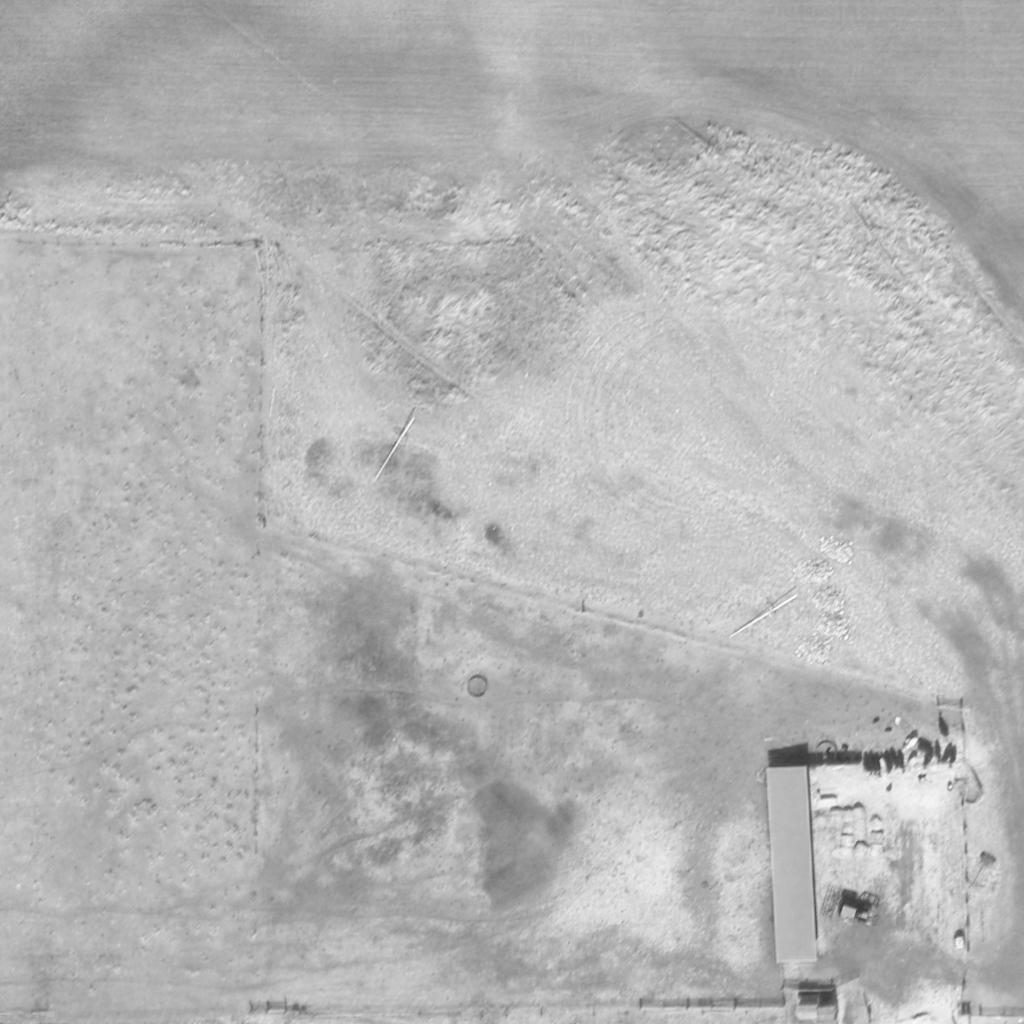vehicle: (835, 892, 879, 934)
